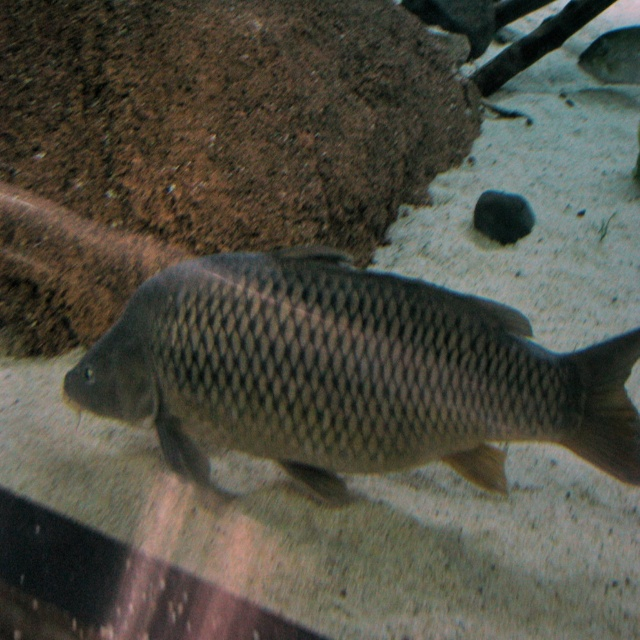Fish: (62, 245, 640, 513)
